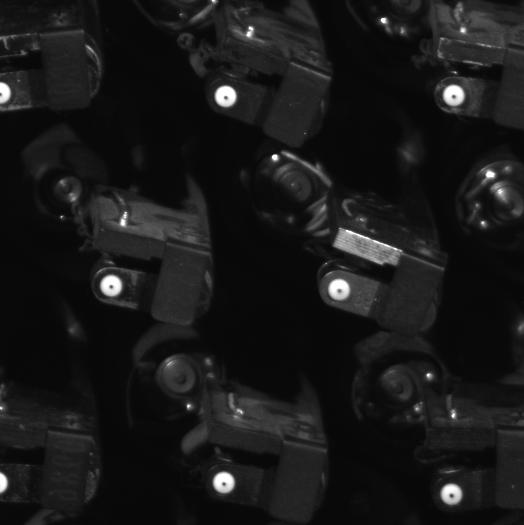fiber: (434, 79, 477, 114), (209, 79, 245, 115), (435, 478, 471, 513), (207, 466, 241, 501), (96, 270, 131, 303), (324, 271, 354, 306), (1, 77, 15, 109)
